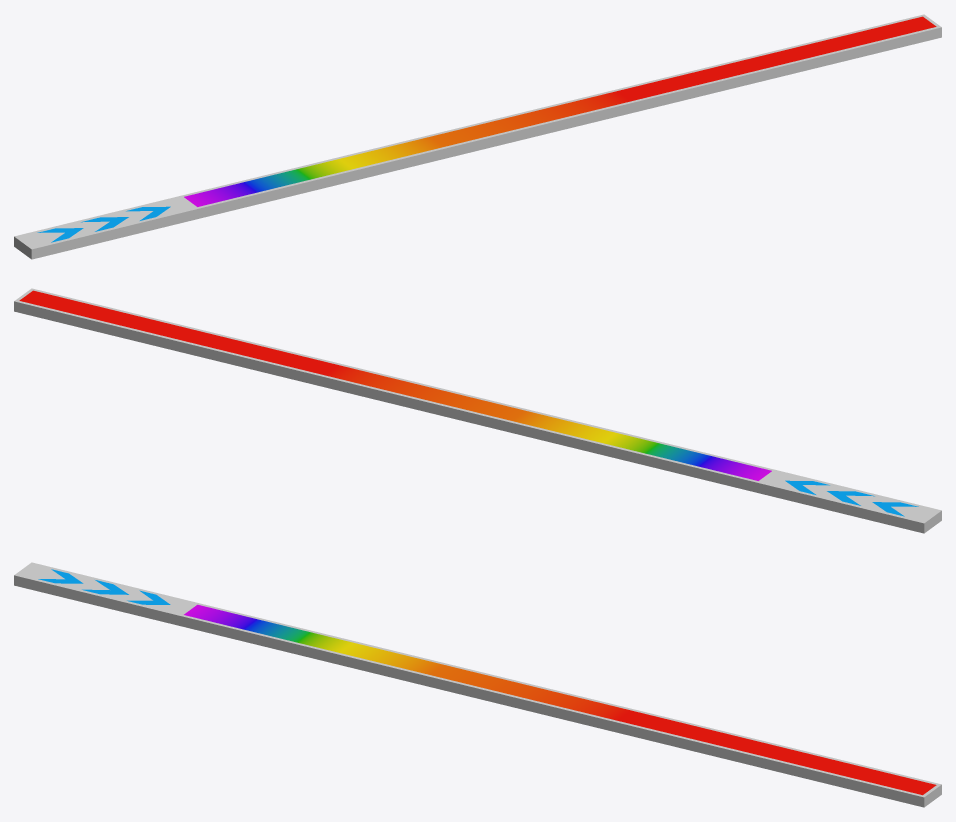
Rendered from platformaccelerate.fbx.
3 views of the same model, one above another, from view 1: azimuth 30°, elevation 25°; view 2: azimuth 150°, elevation 25°; view 3: azimuth 330°, elevation 25° (orthographic).
Visible parts, largest first — view 1: Cube; view 2: Cube; view 3: Cube.
Part boxes in pixels (box(x1,y1,x2,y2)): Cube: box(14, 14, 941, 259); Cube: box(14, 288, 941, 533); Cube: box(14, 562, 941, 807).
Size of the model in its own units: 9188 by 98.18 by 311.
3 materials, 1 textured.
